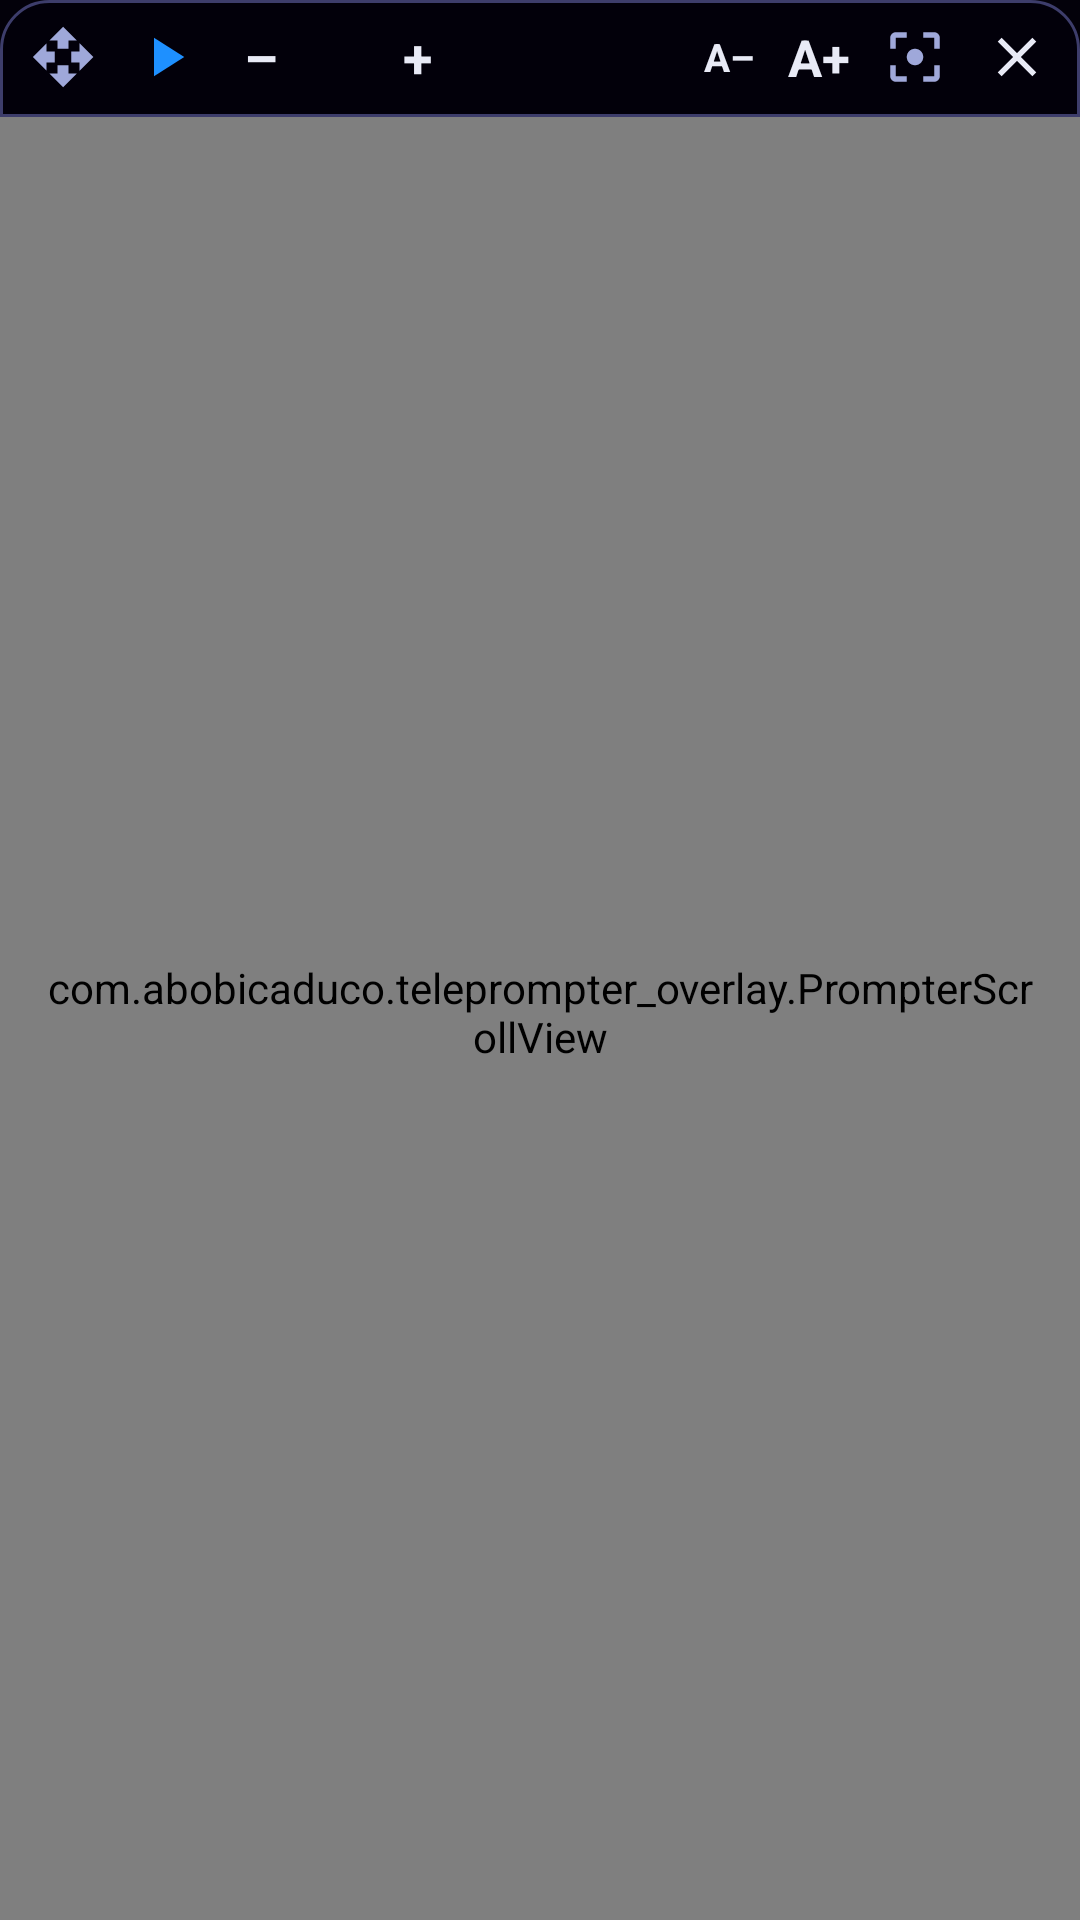

Screen size 1080x1920. Icon name, then its center in pixels as [x,y]:
Arrastar a faixa: [63,57]
Fechar: [1017,57]
Rolar: [169,57]
Voltar pra altura da lente: [915,57]
